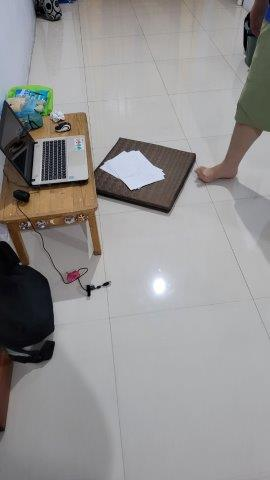kertas: (99, 148, 167, 191)
